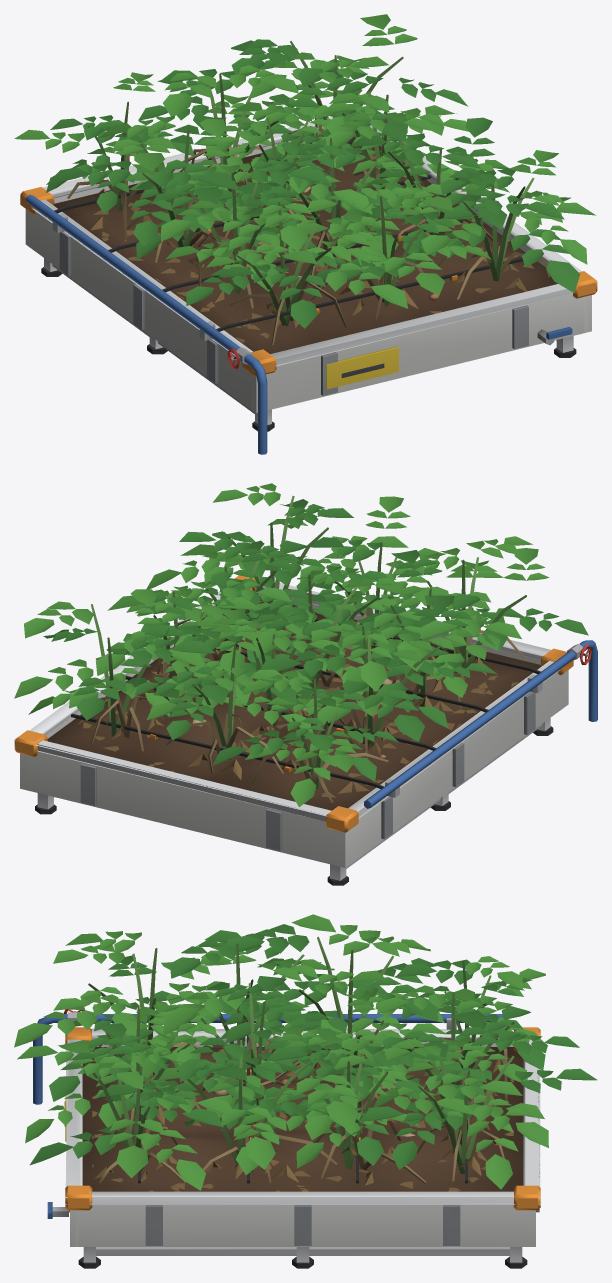
Rendered from farm_plot.glb.
3 renders of one model, top to bottom at view 1: azimuth 30°, elevation 25°; view 2: azimuth 150°, elevation 25°; view 3: azimuth 270°, elevation 25°, orthographic. The views are drawn at different scales.
Parts seen in each view (by area): view 1: plants_mesh, farm_plot_mesh, soil_mesh, plants_dead_mesh; view 2: plants_mesh, farm_plot_mesh, soil_mesh, plants_dead_mesh; view 3: plants_mesh, farm_plot_mesh, soil_mesh, plants_dead_mesh.
Boxes of the visible parts, left/top/right/bottom form: plants_mesh: left=14, top=14, right=596, bottom=328; farm_plot_mesh: left=20, top=117, right=597, bottom=454; soil_mesh: left=54, top=137, right=557, bottom=353; plants_dead_mesh: left=67, top=116, right=550, bottom=344; plants_mesh: left=14, top=483, right=588, bottom=807; farm_plot_mesh: left=14, top=575, right=597, bottom=885; soil_mesh: left=47, top=596, right=540, bottom=810; plants_dead_mesh: left=78, top=586, right=525, bottom=802; plants_mesh: left=14, top=914, right=597, bottom=1190; farm_plot_mesh: left=33, top=1009, right=540, bottom=1268; soil_mesh: left=82, top=1047, right=523, bottom=1191; plants_dead_mesh: left=92, top=1019, right=513, bottom=1191.
Bounding box in the file's own units: 1.98 × 0.8882 × 2.36.
